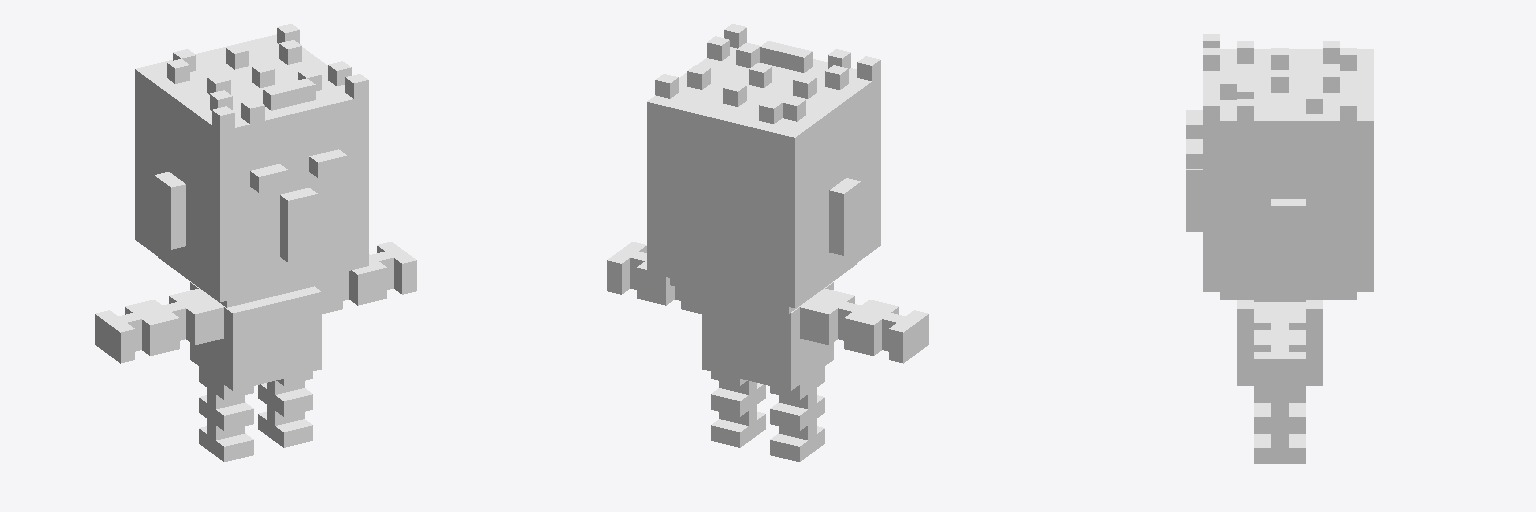
The model's file is MaleCharacter.obj.
3 renders of one model, left to right at view 1: azimuth 30°, elevation 25°; view 2: azimuth 150°, elevation 25°; view 3: azimuth 270°, elevation 25°, orthographic.
Visible parts, largest first — view 1: object 1; view 2: object 1; view 3: object 1.
Part boxes in pixels (x1,y1,x2,y2): object 1: (95, 24, 416, 461); object 1: (607, 24, 928, 461); object 1: (1186, 34, 1373, 463).
Size of the model in its own units: 2 by 2.4 by 1.1.